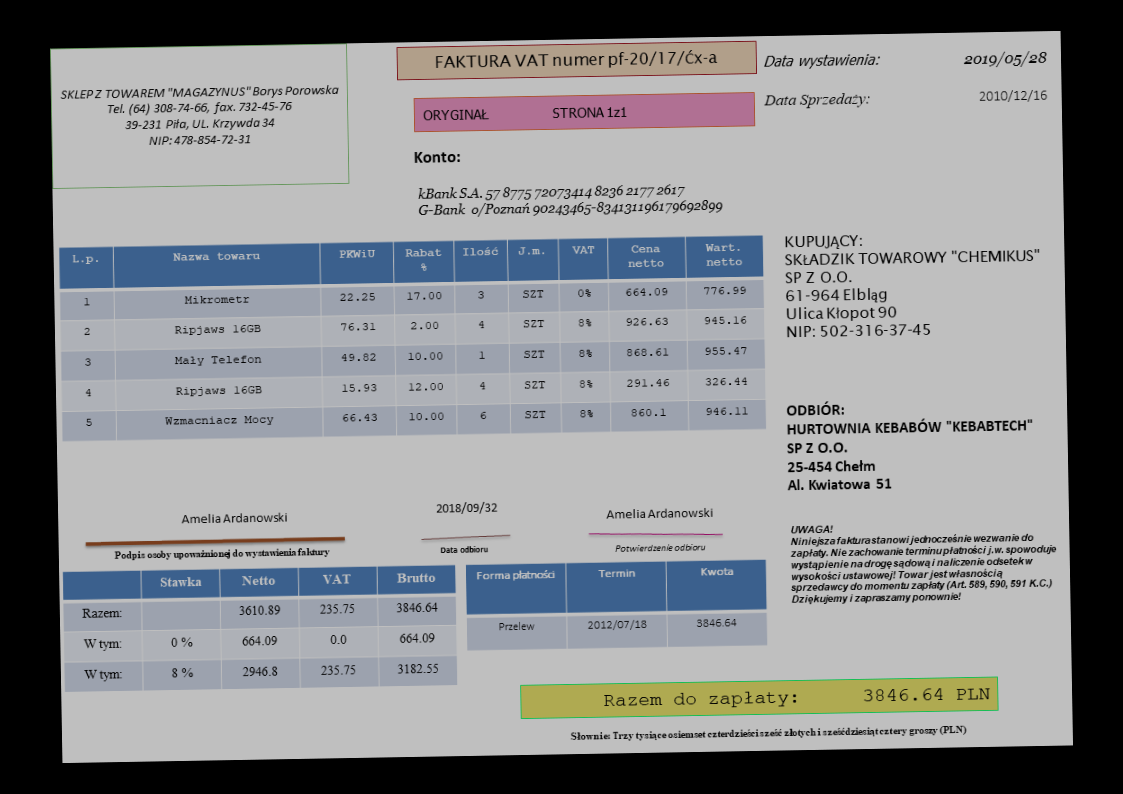Table: (56, 233, 768, 443), (61, 563, 457, 693), (464, 558, 768, 652)
TextBox: (781, 227, 1044, 341), (784, 396, 1037, 494), (787, 518, 1060, 605), (59, 81, 342, 149), (415, 180, 726, 220), (601, 685, 991, 711), (569, 722, 968, 743), (433, 47, 720, 72), (422, 103, 629, 124), (112, 544, 330, 562), (762, 48, 881, 72), (762, 90, 872, 110), (961, 48, 1049, 70), (180, 510, 289, 527), (604, 506, 714, 520), (612, 540, 708, 555), (977, 87, 1048, 104), (434, 500, 498, 516), (412, 148, 461, 166), (438, 543, 488, 556)
